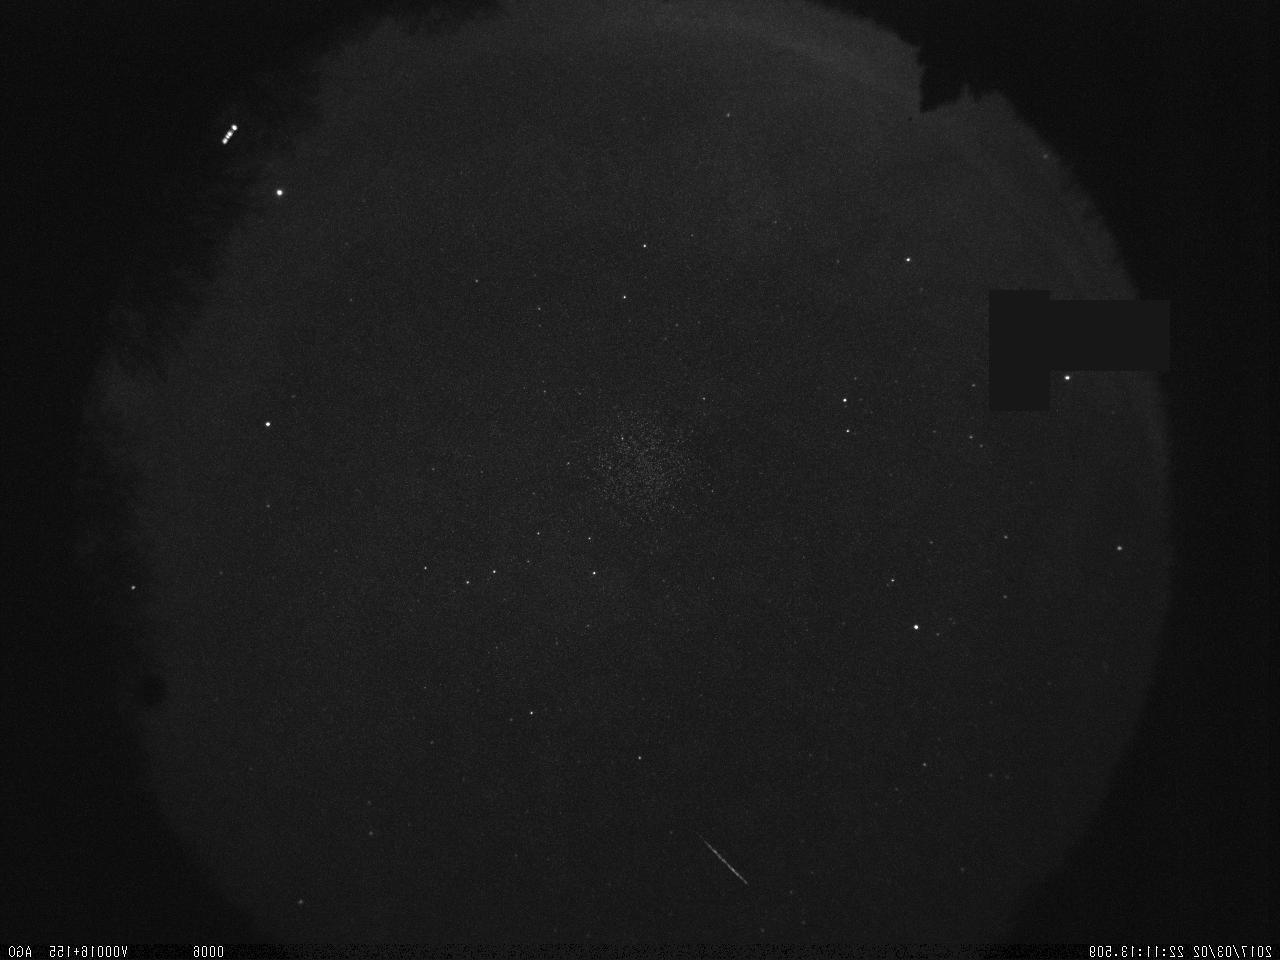meteor: (686, 821, 758, 895)
satelite: (215, 117, 243, 150)
